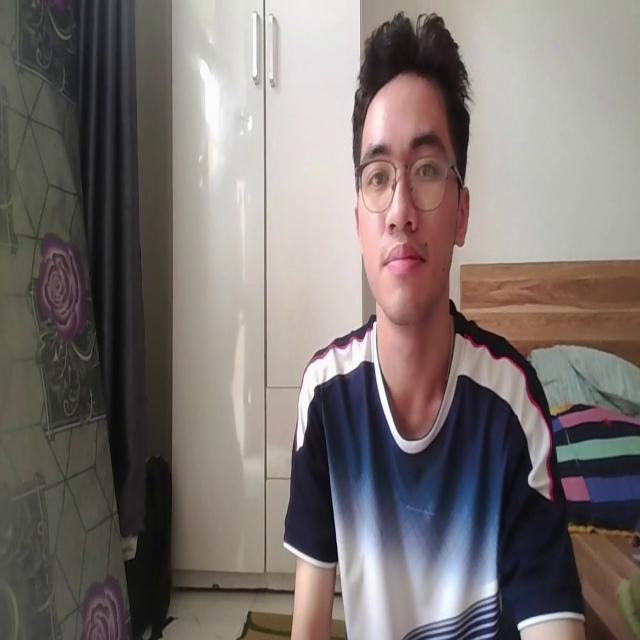student: (280, 9, 582, 640)
